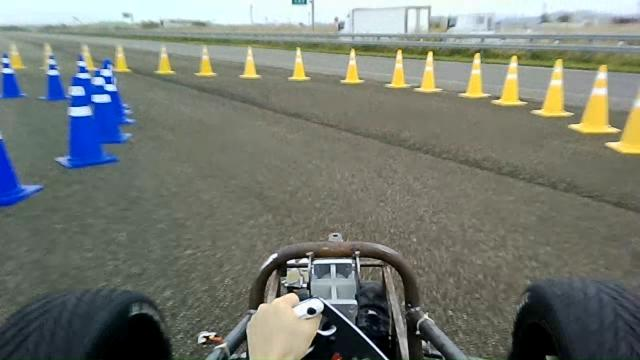blue cone: (54, 71, 103, 168), (90, 71, 123, 143)
yellow cone: (568, 64, 621, 134), (530, 58, 574, 118), (604, 90, 640, 154), (491, 55, 528, 106)
